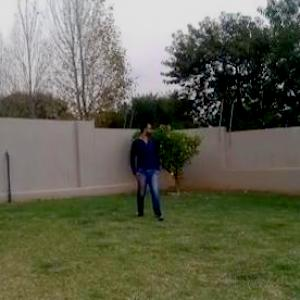follow: (136, 118, 162, 220)
